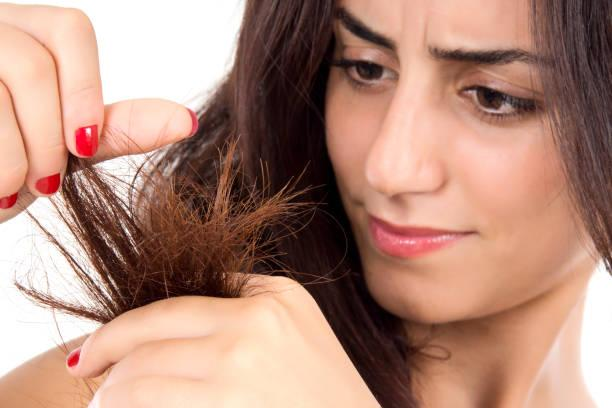dry hair: (189, 155, 257, 284), (268, 184, 307, 234)
